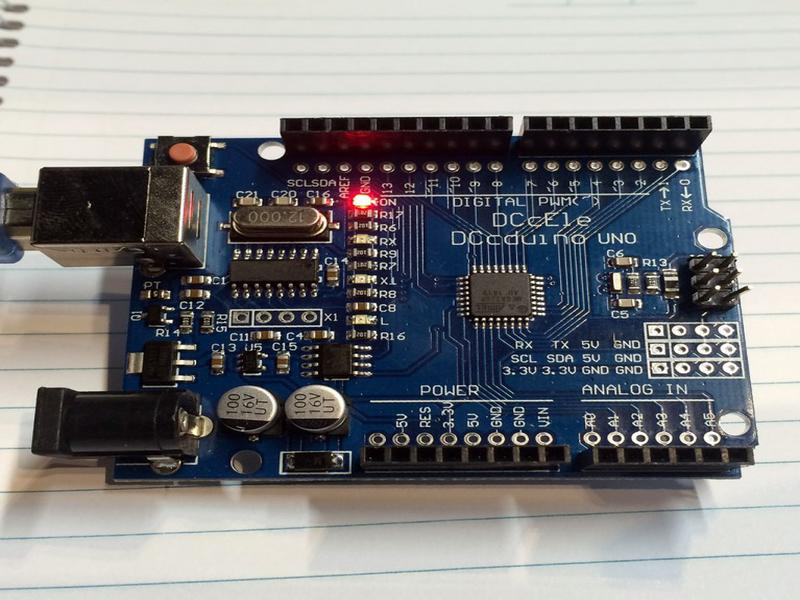Arduino UNO SMD: (27, 114, 760, 490)
